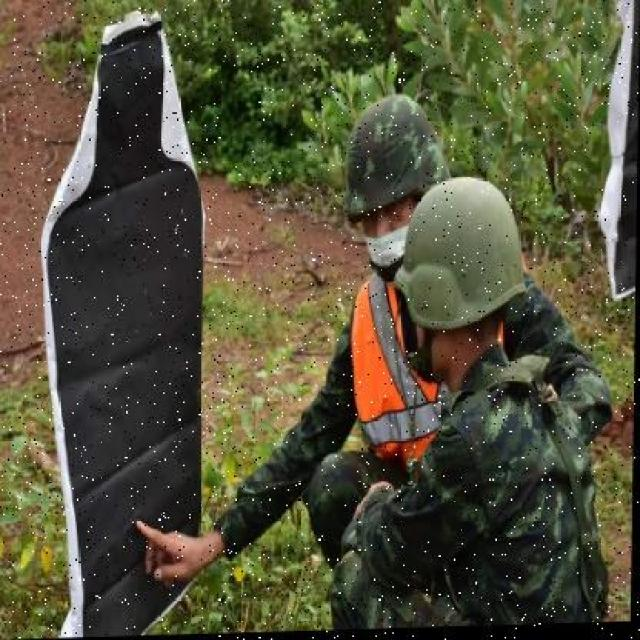MIL_Pax: (380, 191, 582, 631), (316, 87, 456, 475)
